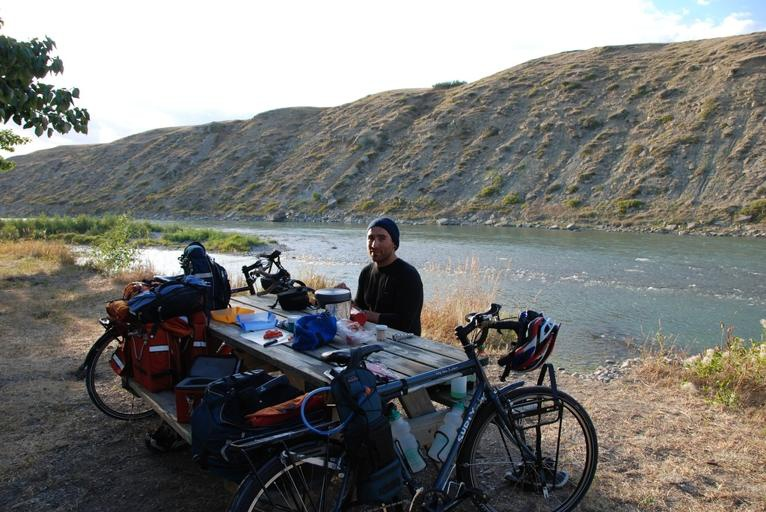non-vehicle: (221, 301, 598, 509), (76, 251, 315, 420)
